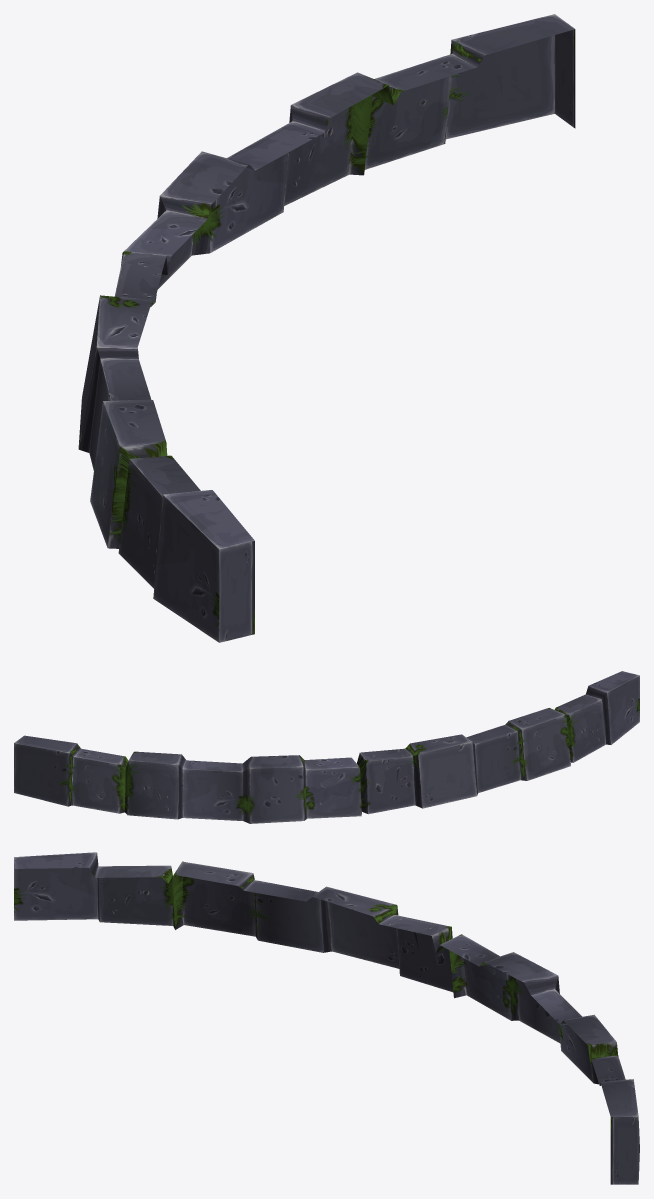
File: MOD_WallTrim_01_M_concave_2.fbx
3 views of the same model, one above another, from view 1: azimuth 30°, elevation 25°; view 2: azimuth 150°, elevation 25°; view 3: azimuth 270°, elevation 25° (orthographic). The views are drawn at different scales.
Visible parts, largest first — view 1: MOD_WallTrim_01_M_concave_2; view 2: MOD_WallTrim_01_M_concave_2; view 3: MOD_WallTrim_01_M_concave_2.
Boxes of the visible parts, x1,y1,x2,y2 form: MOD_WallTrim_01_M_concave_2: [78, 14, 575, 642]; MOD_WallTrim_01_M_concave_2: [14, 671, 639, 823]; MOD_WallTrim_01_M_concave_2: [14, 852, 639, 1184].
Size of what is drawn, in the model's own units: 447 by 56.8 by 446.
